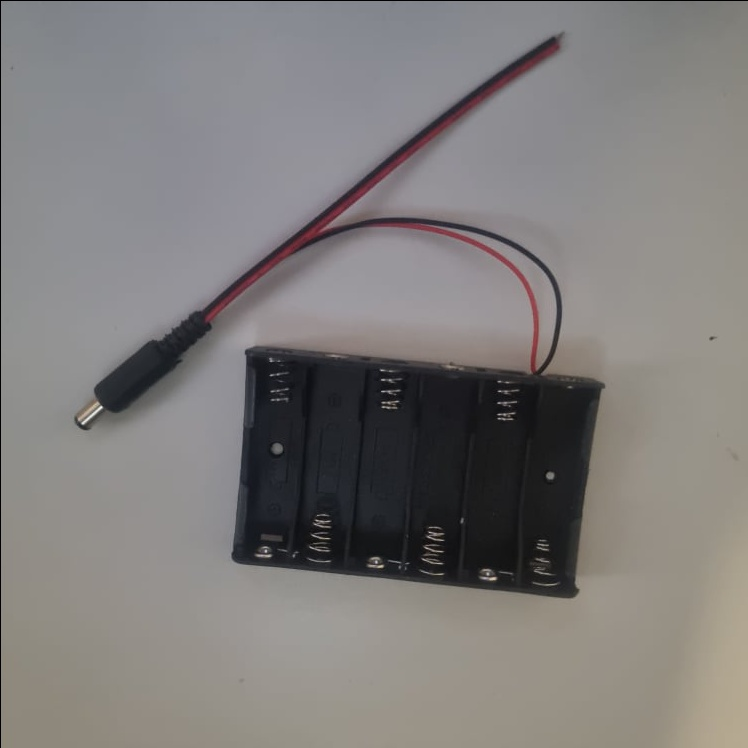BATTERY BOX: (229, 342, 611, 599)
